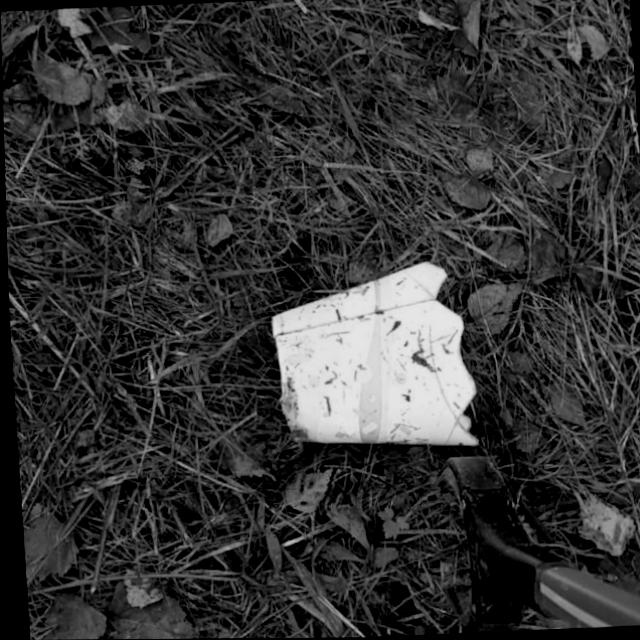Paper: (262, 258, 480, 458)
